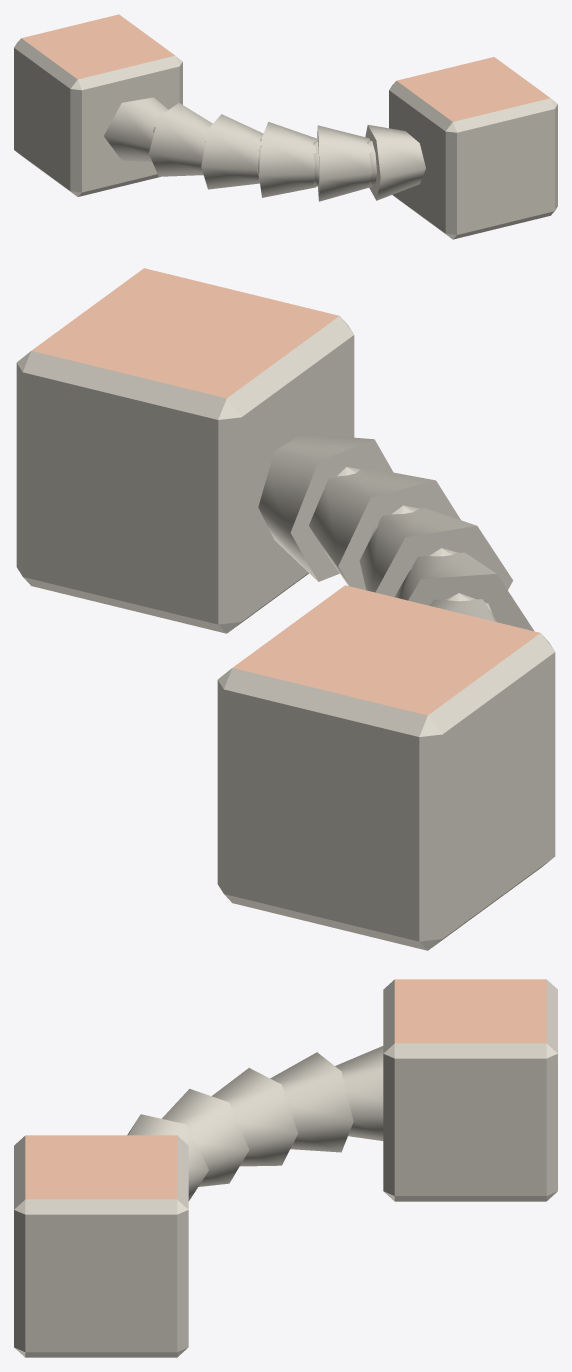
The model's file is R4C_STRUT_ARC_LOD1.fbx.
3 renders of one model, top to bottom at view 1: azimuth 30°, elevation 25°; view 2: azimuth 150°, elevation 25°; view 3: azimuth 270°, elevation 25°, orthographic. The views are drawn at different scales.
Visible parts, largest first — view 1: R4C_STRUT_ARC_LOD1; view 2: R4C_STRUT_ARC_LOD1; view 3: R4C_STRUT_ARC_LOD1.
Boxes of the visible parts, x1,y1,x2,y2 form: R4C_STRUT_ARC_LOD1: [14, 14, 557, 239]; R4C_STRUT_ARC_LOD1: [16, 268, 555, 950]; R4C_STRUT_ARC_LOD1: [14, 979, 557, 1357].
Bounding box in the file's own units: 1.62 × 0.52 × 1.62.
